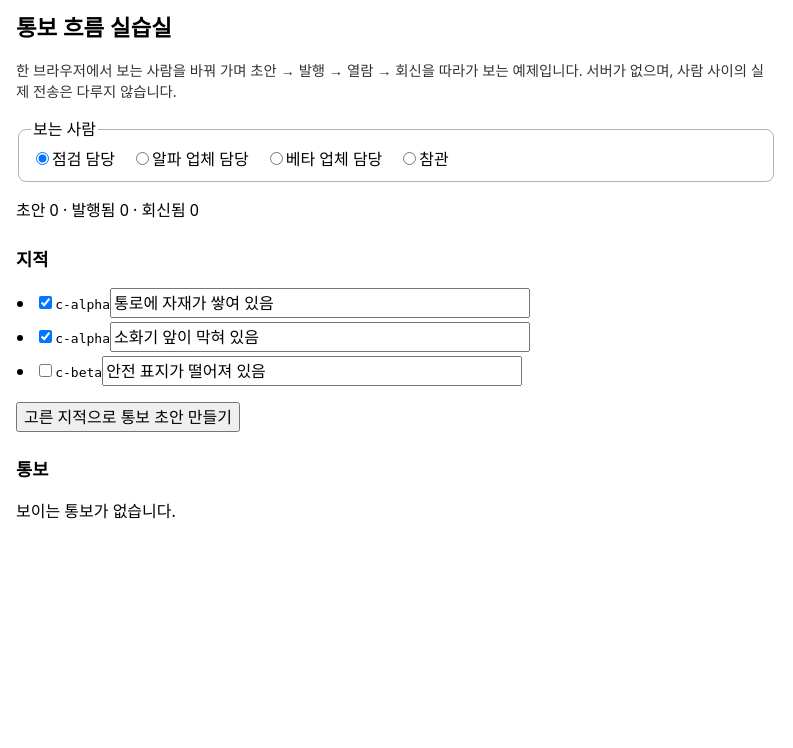
Test: the screen › lets one person issue and another person see and answer
Earlier steps of the test are not shown.
Click the button "고른 지적으로 통보 초안 만들기" at (128, 417), box x1=16 y1=402 x2=240 y2=432
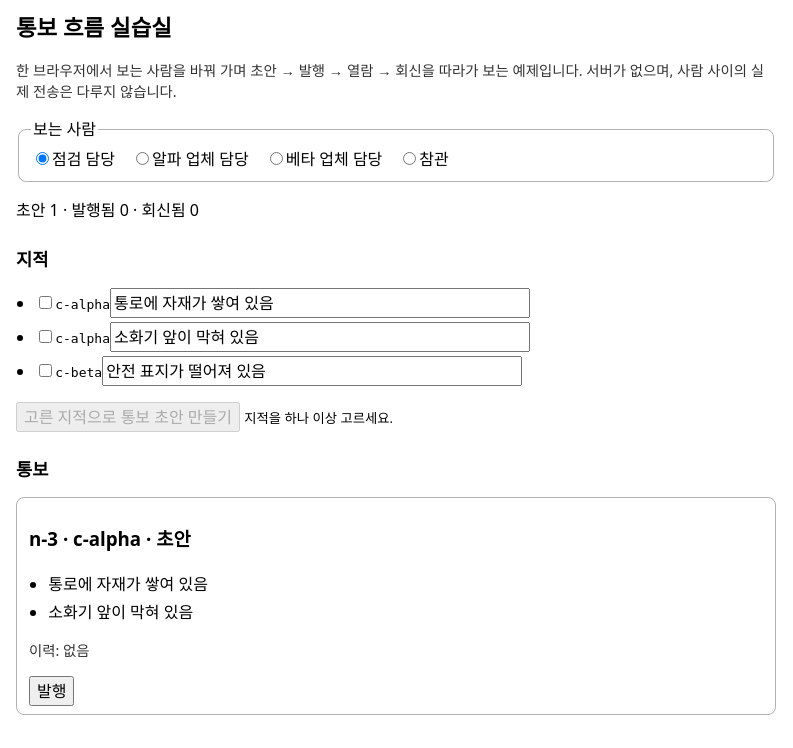
Check: the element with test id "notice-n-3" shows "초안", box x1=156 y1=526 x2=191 y2=551
Click the button "발행" at (52, 691), box x1=29 y1=676 x2=74 y2=706
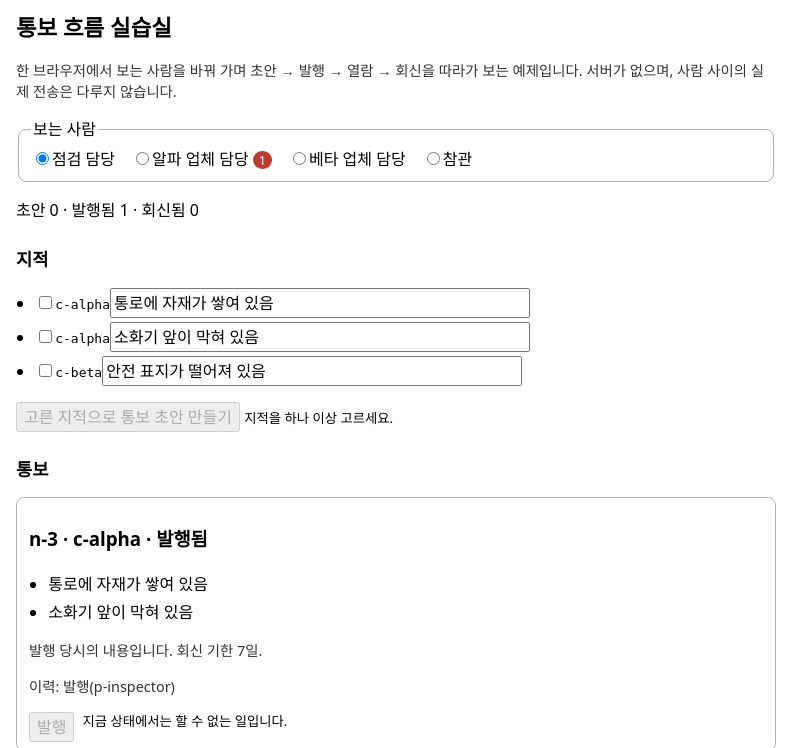
Check: the element with test id "notice-n-3" shows "발행됨", box x1=156 y1=526 x2=208 y2=551
Check: the text named "읽지 않은 통보 1건" is shown, box x1=253 y1=151 x2=272 y2=169
Click the radio button labelled "알파 업체 담당1" at (142, 158), box x1=136 y1=152 x2=149 y2=165
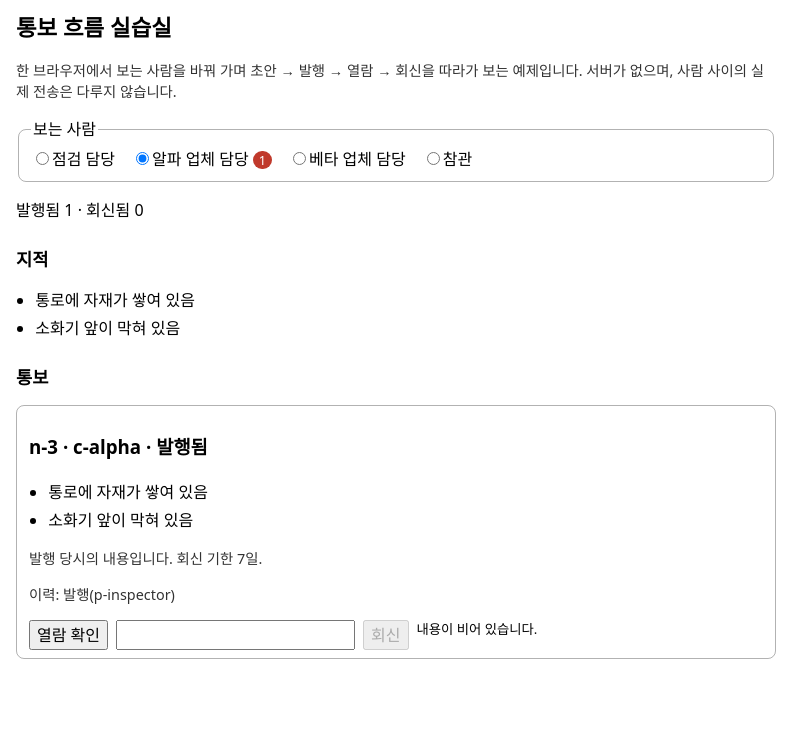
Click the button "열람 확인" at (68, 635), box x1=29 y1=620 x2=108 y2=650
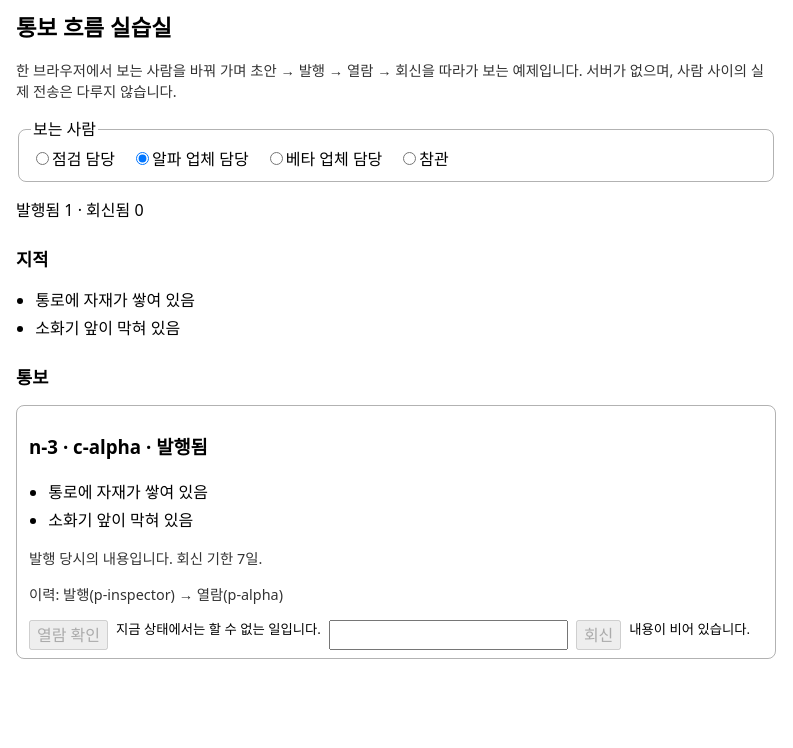
Type "치웠습니다" into the field named "n-3 회신 내용" at (448, 635), box x1=329 y1=620 x2=568 y2=650
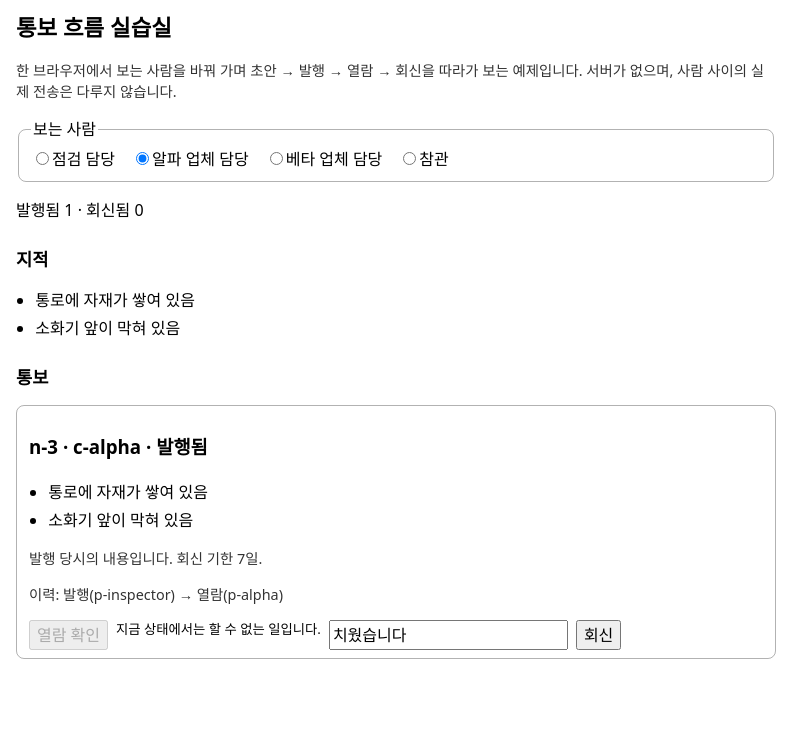
Click the button "회신" at (599, 635), box x1=576 y1=620 x2=621 y2=650
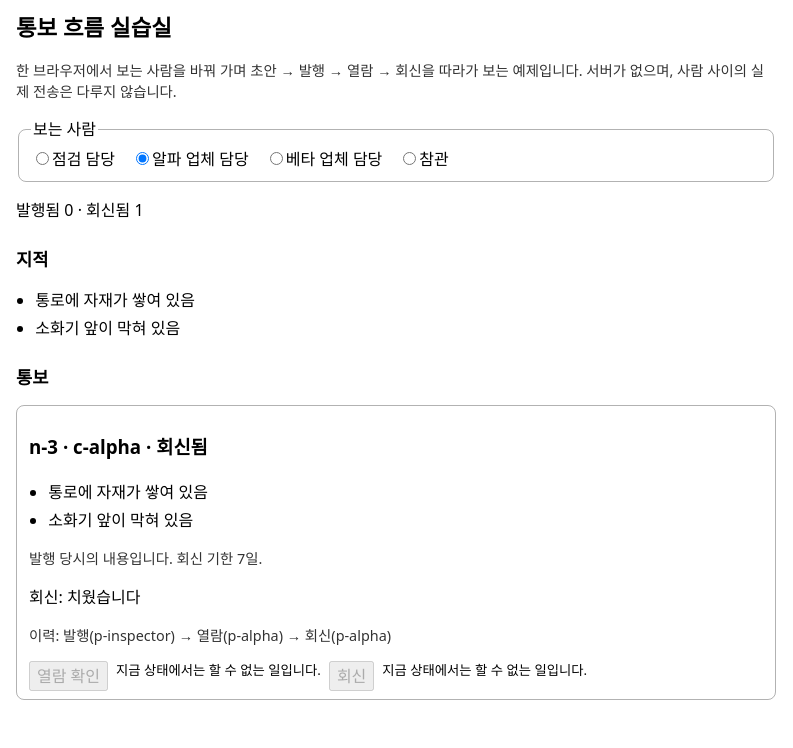
Check: the element with test id "notice-n-3" shows "회신: 치웠습니다", box x1=16 y1=405 x2=776 y2=700
Check: the element with test id "notice-n-3" shows "발행(p-inspector) → 열람(p-alpha) → 회신(p-alpha)", box x1=63 y1=626 x2=391 y2=645
Check: the text with test id "counts" reads "발행됨 0 · 회신됨 1", box x1=16 y1=199 x2=144 y2=221
